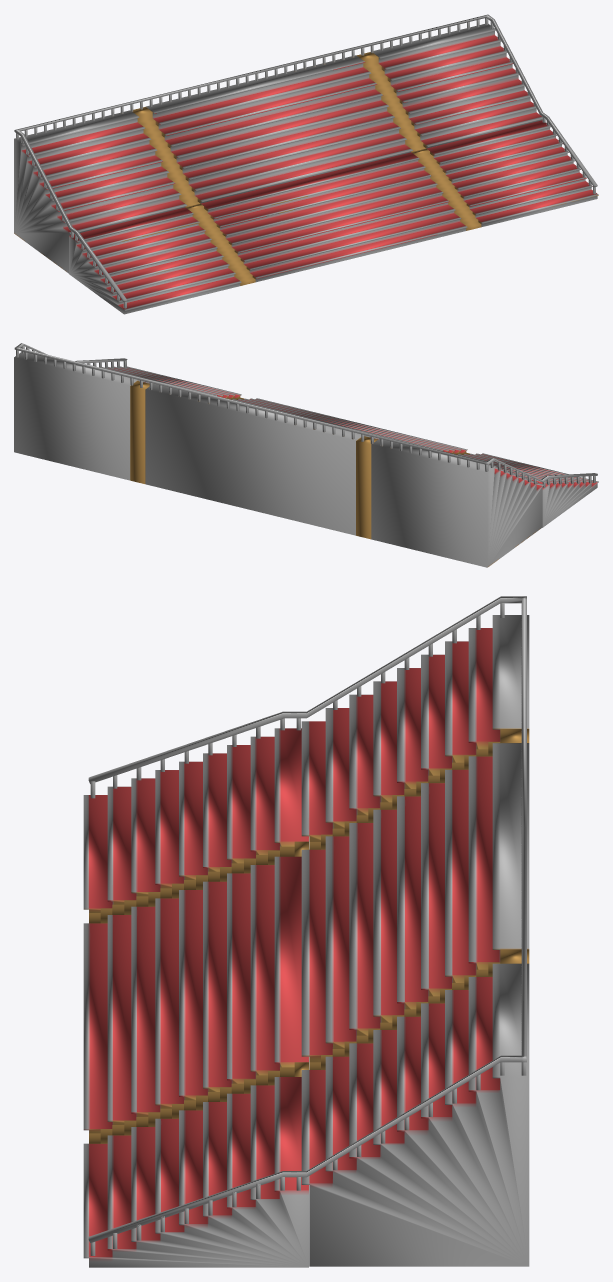
File: Small grand stand smooth.fbx
3 views of the same model, one above another, from view 1: azimuth 30°, elevation 25°; view 2: azimuth 150°, elevation 25°; view 3: azimuth 270°, elevation 25° (orthographic). The views are drawn at different scales.
Visible parts, largest first — view 1: Cube.003; view 2: Cube.003; view 3: Cube.003.
Part boxes in pixels (<box>): Cube.003: <box>14,14,598,314</box>; Cube.003: <box>14,343,598,567</box>; Cube.003: <box>83,596,529,1267</box>.
Bounding box in the file's own units: 994 × 209 × 405.
